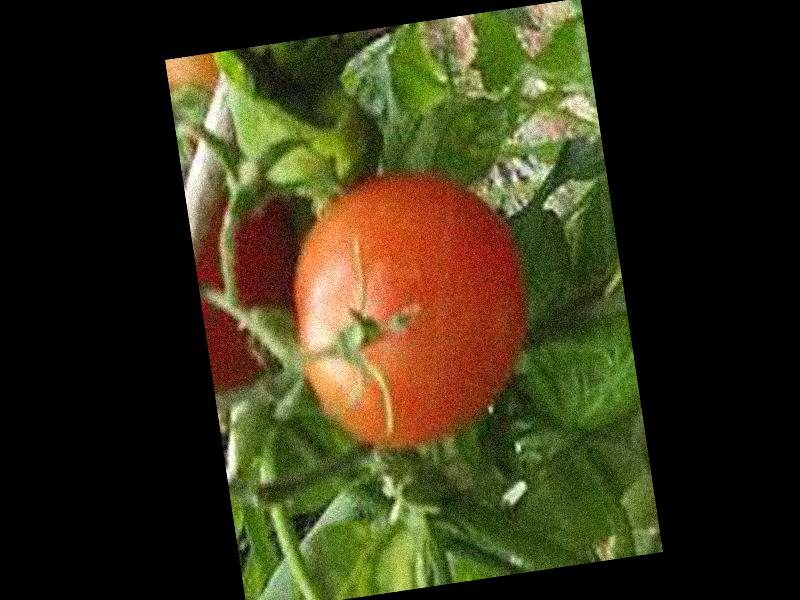Tomato: (276, 163, 538, 458)
